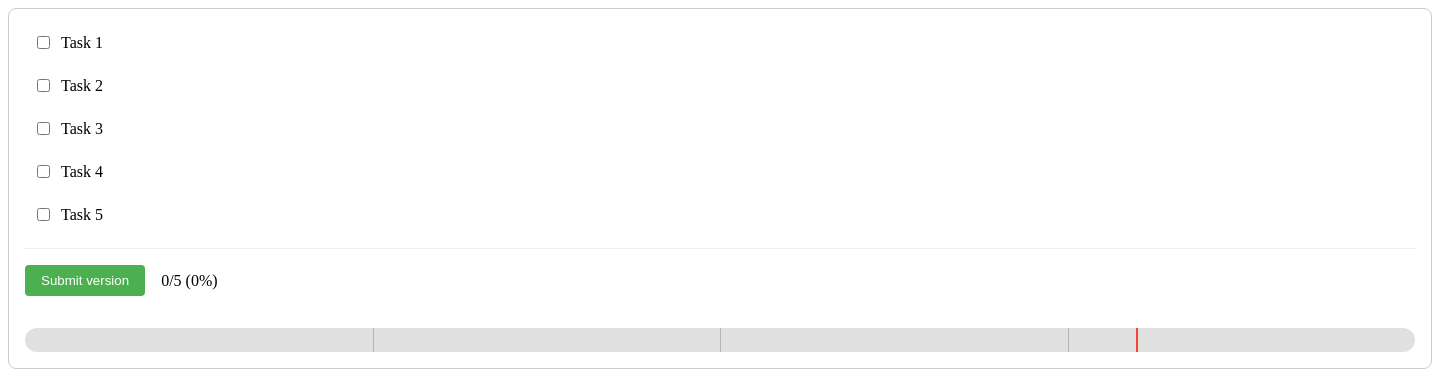
Test: ChecklistProgress › handles all items checked
Click the checkbox labelled "Task 1".
click(44, 42)  # box [37,36,50,49]
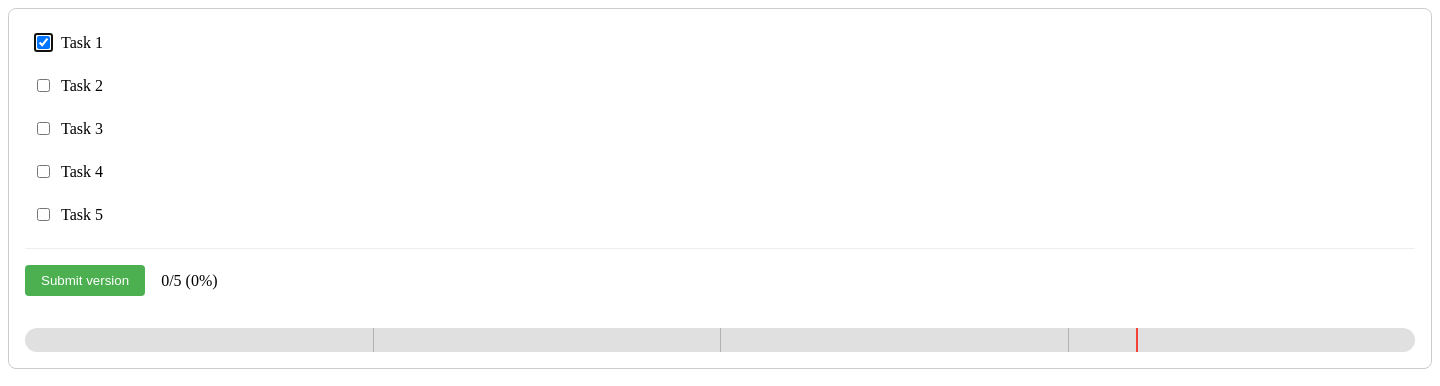
Click the checkbox labelled "Task 2".
click(44, 86)  # box [37,79,50,92]
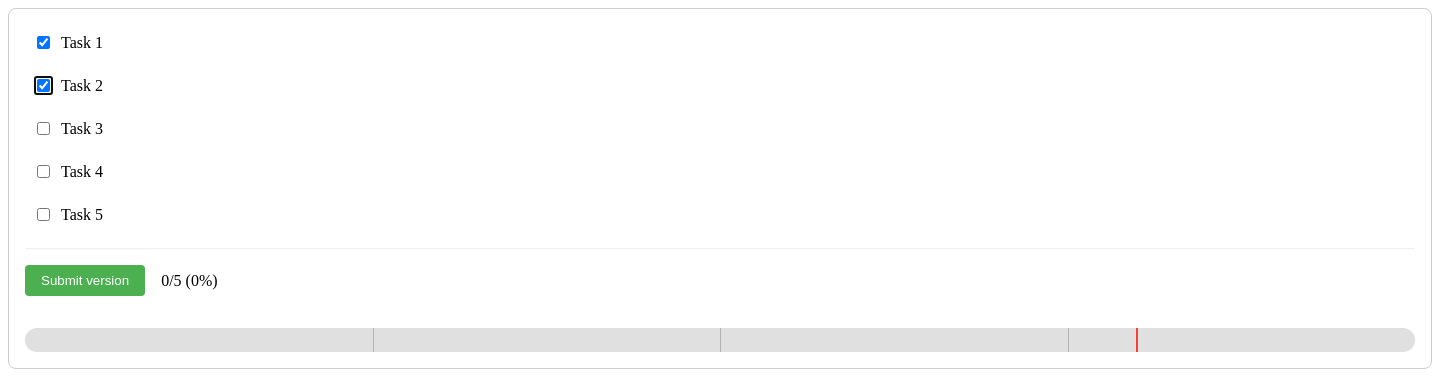
Click the checkbox labelled "Task 3".
click(44, 128)  # box [37,122,50,135]
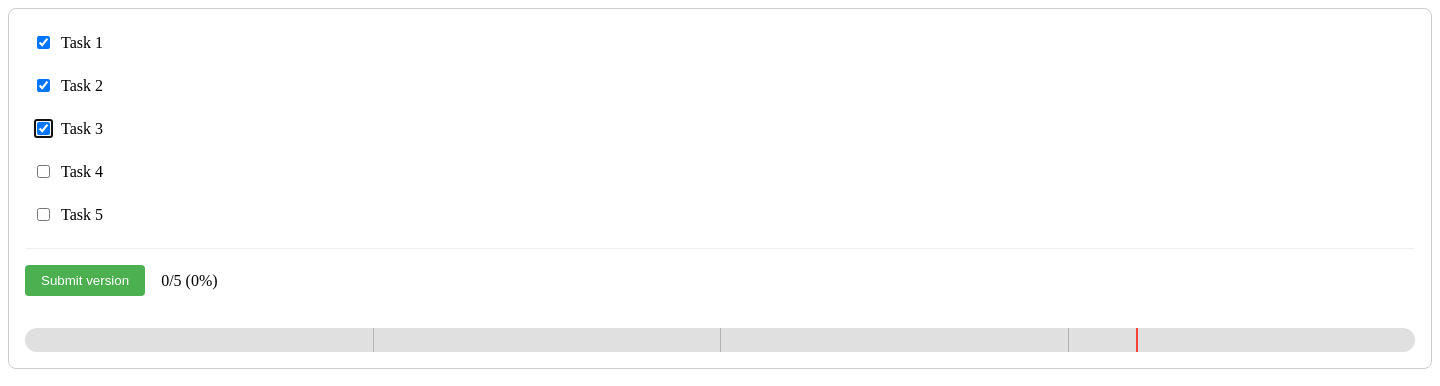
Click the checkbox labelled "Task 4".
click(44, 172)  # box [37,165,50,178]
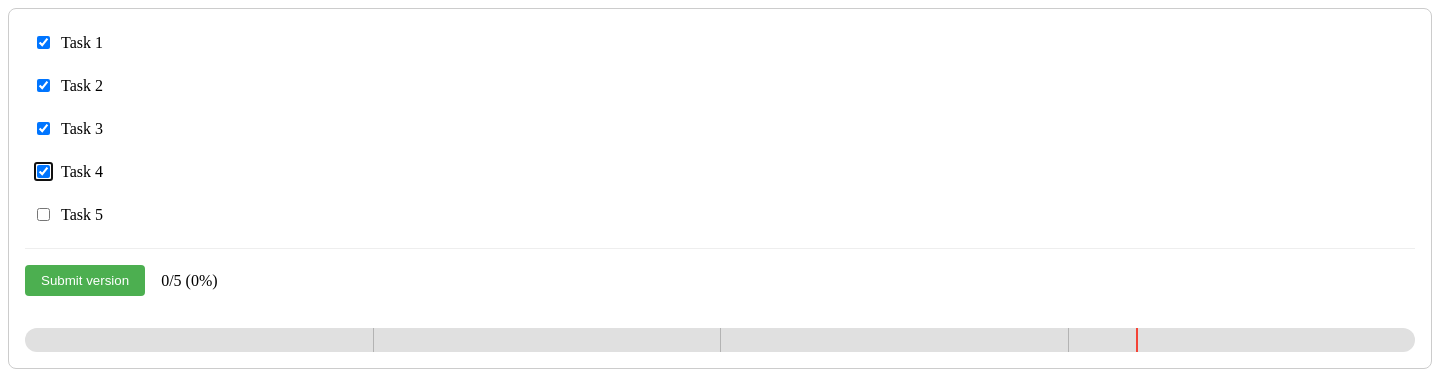
Click the checkbox labelled "Task 5".
click(44, 214)  # box [37,208,50,221]
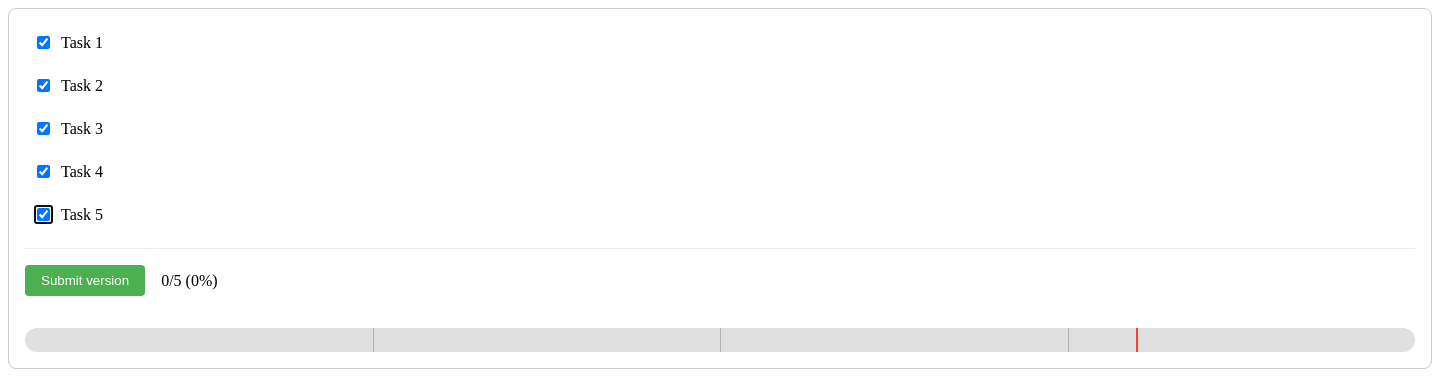
Click the button "Submit version".
click(85, 280)  # box [25,265,145,296]
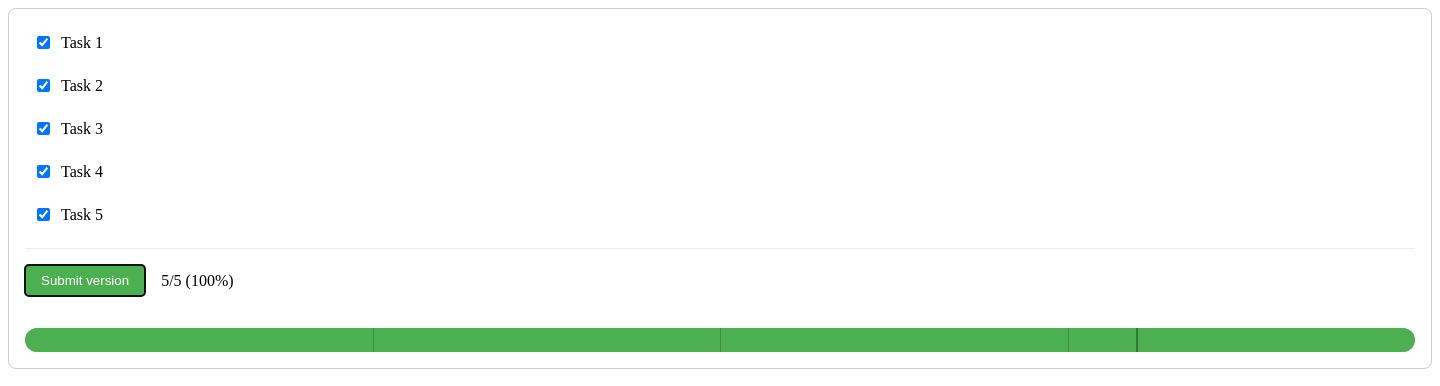
Check: the text with test id "progress-label" reads "5/5 (100%)", box [161,272,234,288]
